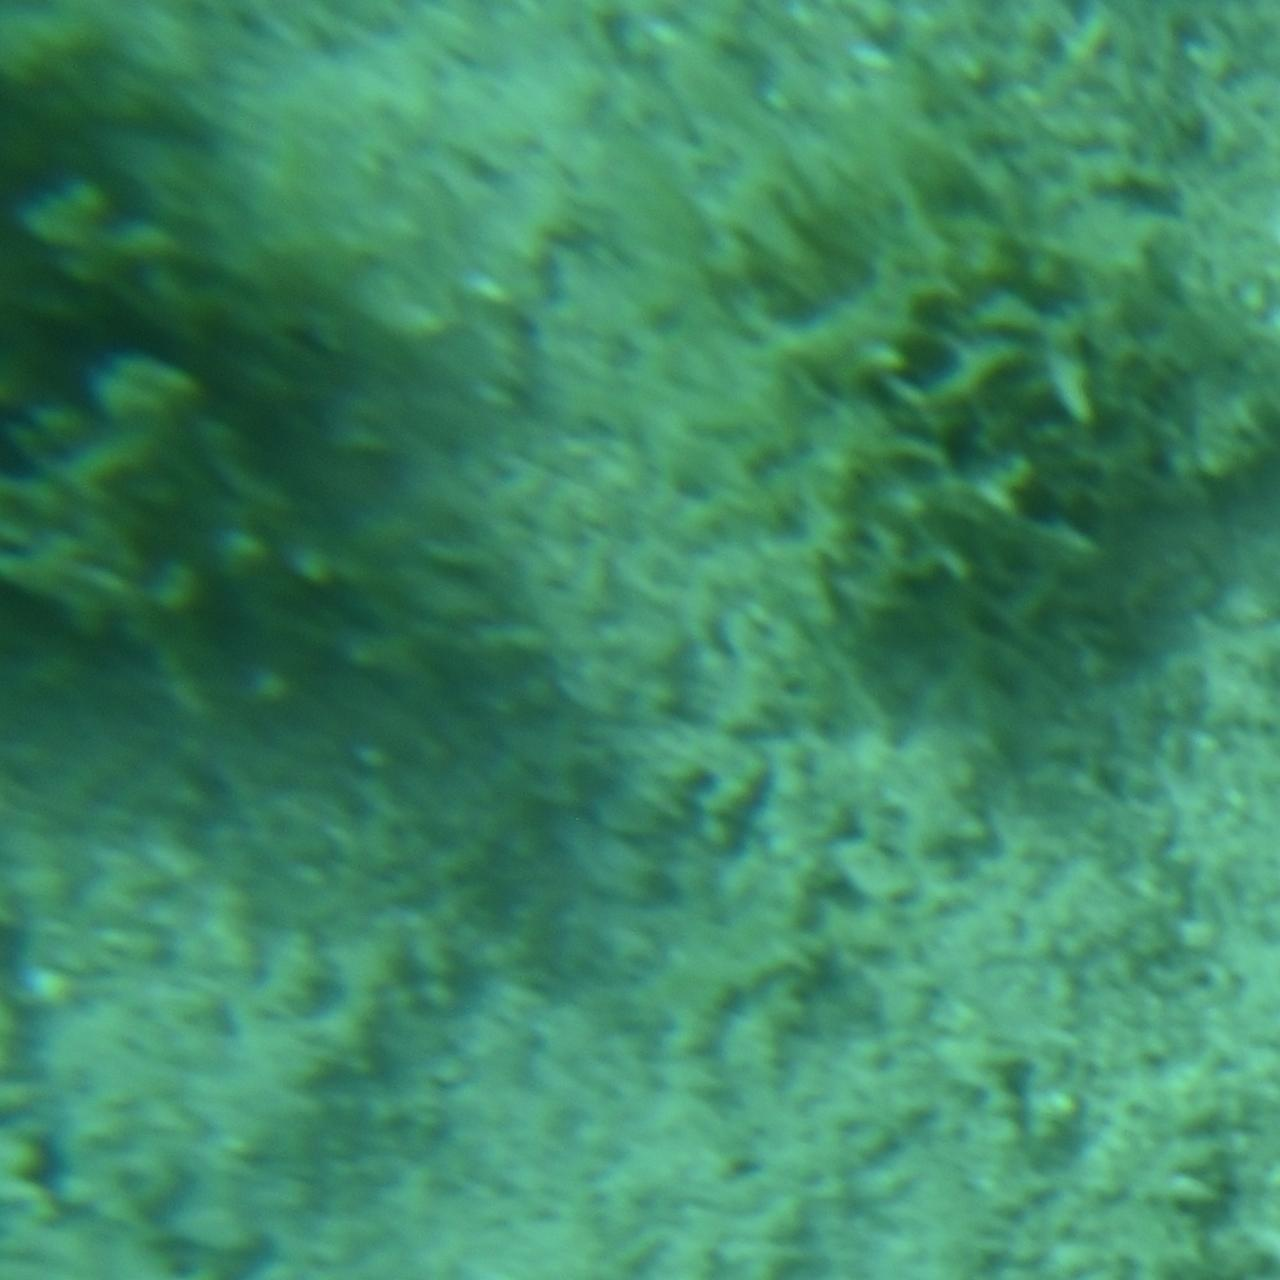Phaeophyceae -cfr Cystoseira-: (697, 129, 1280, 720), (0, 0, 452, 741)
